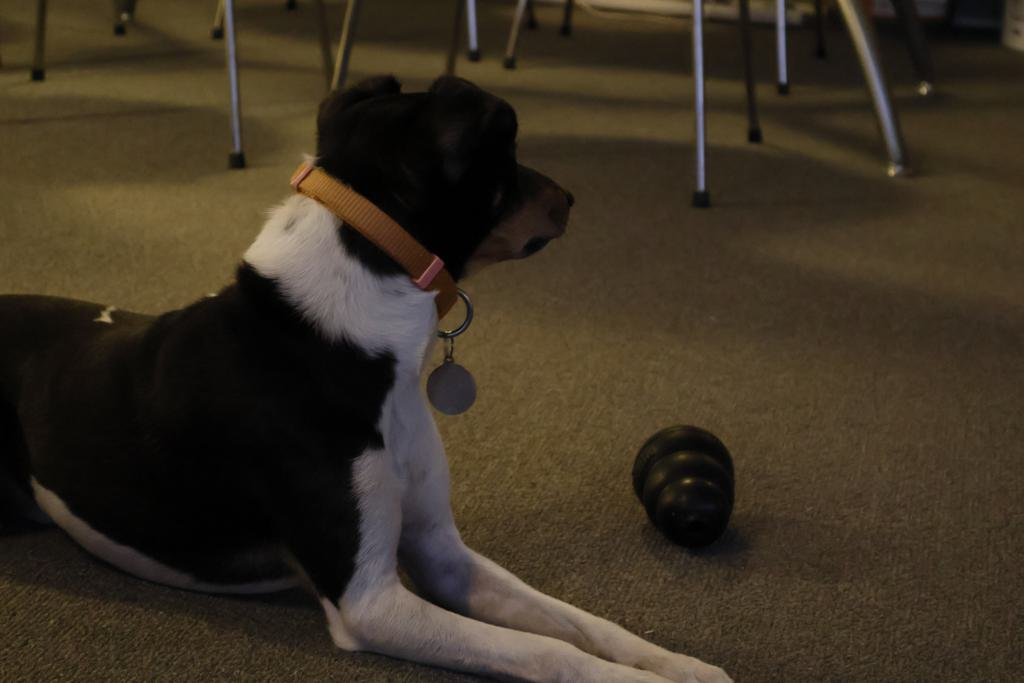Dog: (0, 60, 757, 683)
